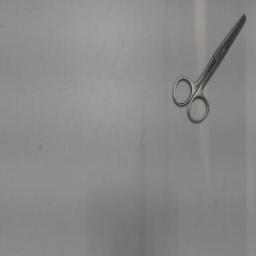Dressing Scissors: (165, 7, 253, 131)
